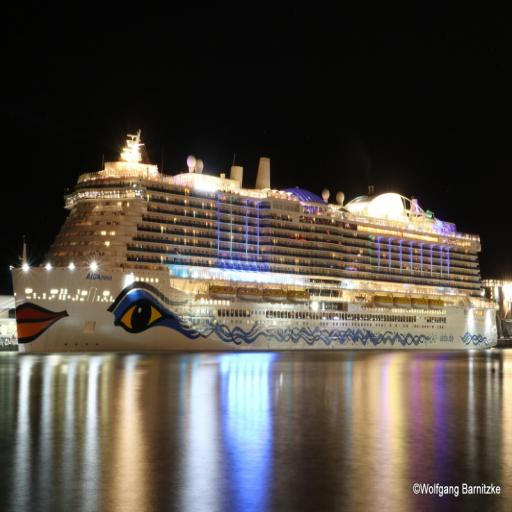cruises: (8, 130, 500, 360)
